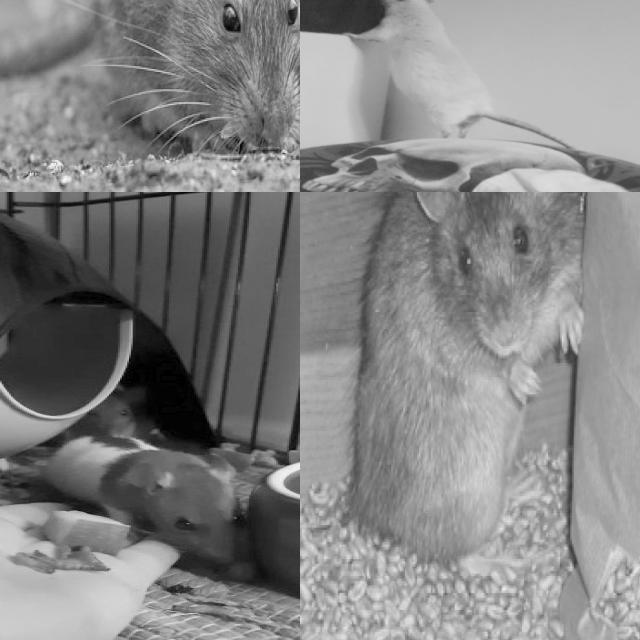rat: (341, 192, 586, 570), (99, 0, 300, 142), (35, 440, 253, 562), (336, 0, 501, 142), (69, 386, 146, 438)
